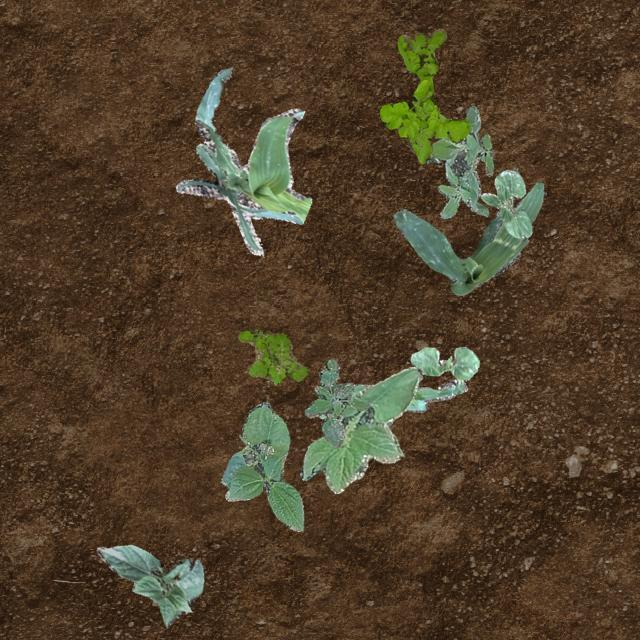crop: (174, 67, 310, 255), (392, 180, 544, 294), (298, 366, 418, 492), (220, 400, 302, 530), (96, 544, 202, 626), (318, 374, 467, 426), (479, 168, 532, 238), (408, 346, 478, 380)
weed: (378, 28, 469, 162), (426, 105, 492, 218), (304, 358, 371, 448), (236, 328, 306, 384)
